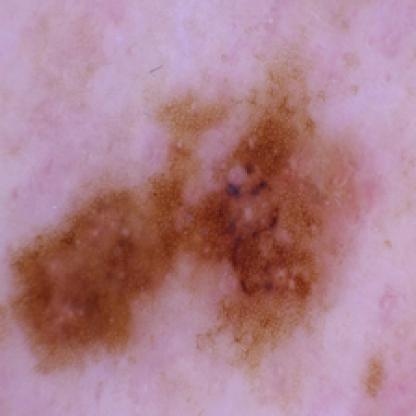Skin_Cancer-Malignant: (10, 67, 359, 374)
